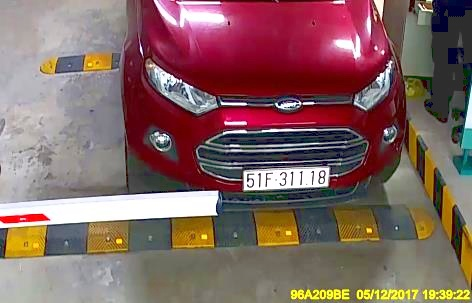plate: (240, 163, 330, 189)
